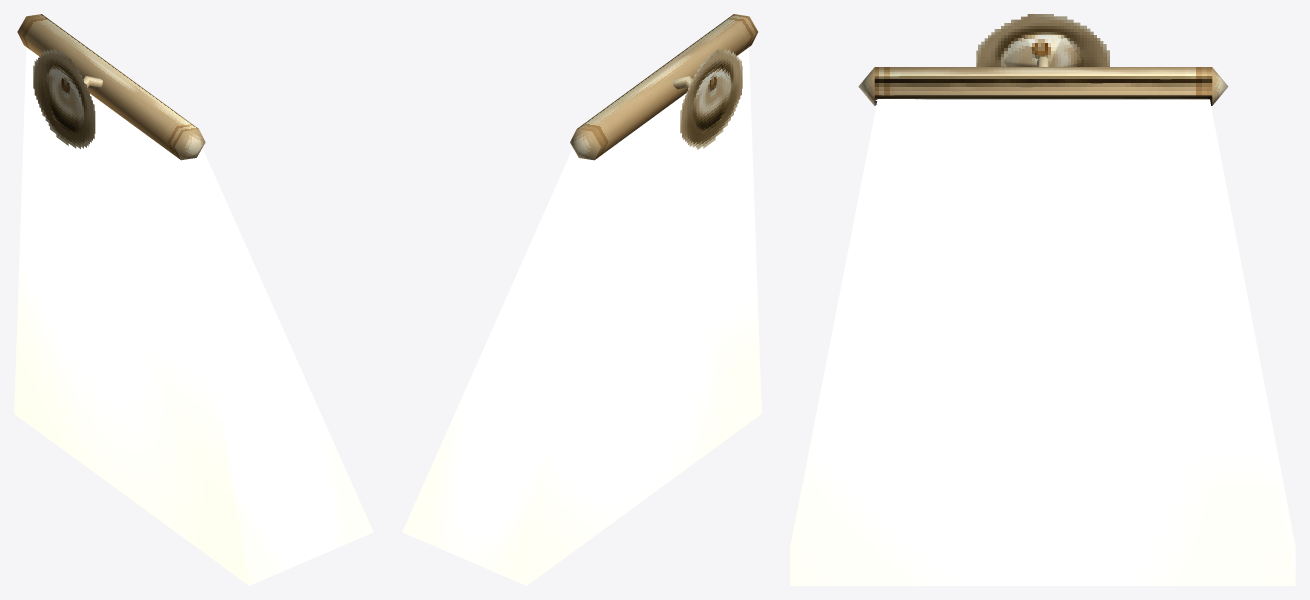
File: a_SClamp01.glb
3 views of the same model, side by side, from view 1: azimuth 30°, elevation 25°; view 2: azimuth 150°, elevation 25°; view 3: azimuth 270°, elevation 25° (orthographic). The views are drawn at different scales.
Visible parts, largest first — view 1: a_SClamp01; view 2: a_SClamp01; view 3: a_SClamp01.
Boxes of the visible parts, left/top/right/bottom form: a_SClamp01: left=14, top=14, right=373, bottom=585; a_SClamp01: left=402, top=14, right=761, bottom=585; a_SClamp01: left=790, top=14, right=1295, bottom=585.
Size of the model in its own units: 0.6368 by 1.46 by 1.35.
Materials: 3 (3 with a texture image).
